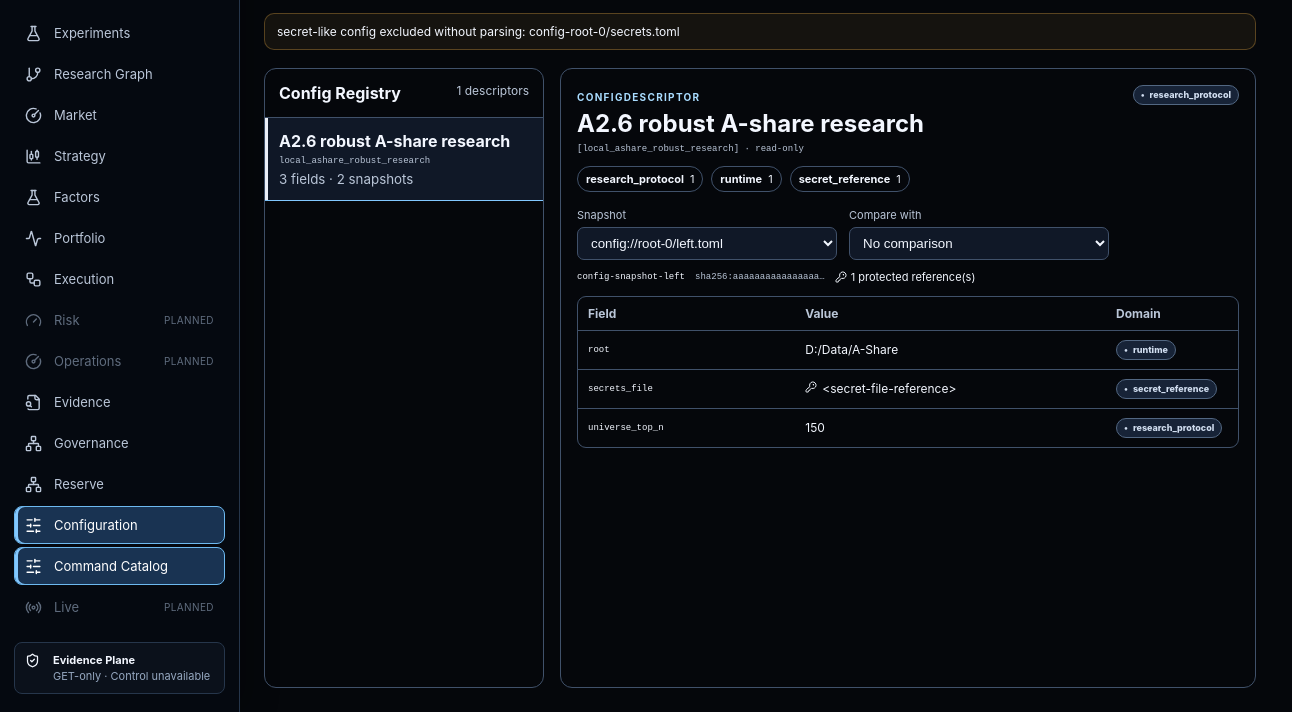
V3-2 Configuration and Command catalogs › navigates to the command catalog without enabling adapter-required execution
(page scrolled)
Click the link "Command Catalog" at (120, 566), box [14,547,225,585]
(page scrolled)
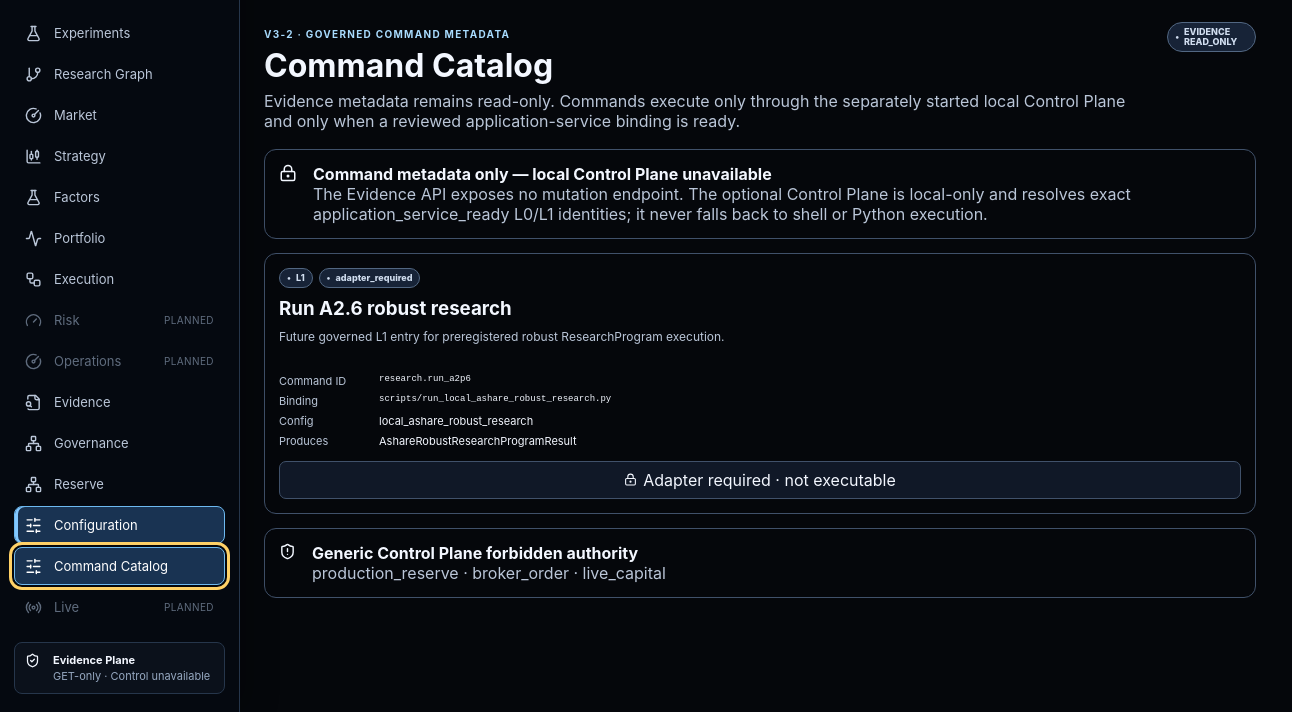
Expected: the heading "Run A2.6 robust research" is shown, [279,297,512,320]
Expected: the text "adapter_required" is shown, [319,268,420,288]
Expected: the text "Command metadata only — local Control Plane unavailable" is shown, [313,164,772,184]
